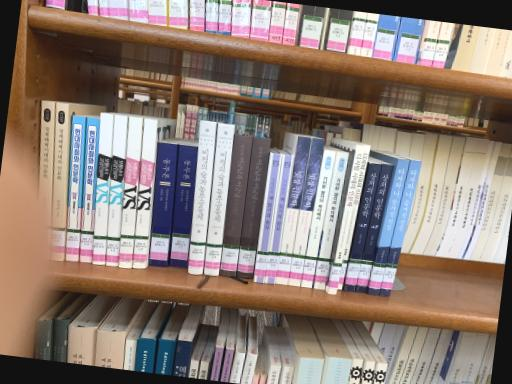book-spine: (380, 159, 422, 296), (369, 159, 410, 295), (328, 144, 365, 294), (289, 138, 325, 286), (276, 136, 311, 285), (314, 151, 349, 289), (356, 163, 393, 292), (204, 123, 235, 276), (302, 150, 336, 287), (338, 145, 370, 290), (345, 163, 381, 291), (238, 136, 270, 278), (220, 135, 252, 276), (188, 120, 217, 275), (133, 118, 158, 268), (119, 116, 143, 268), (254, 153, 282, 283), (265, 154, 293, 284), (150, 142, 178, 267), (169, 144, 197, 267), (93, 112, 114, 265), (106, 114, 127, 266), (36, 100, 55, 259), (80, 116, 100, 263), (51, 102, 69, 260), (67, 115, 85, 261)
